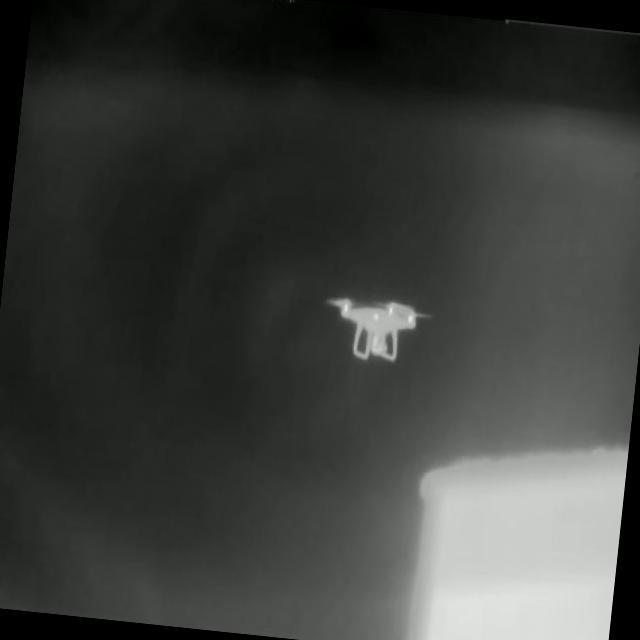DRONE: (320, 293, 439, 362)
